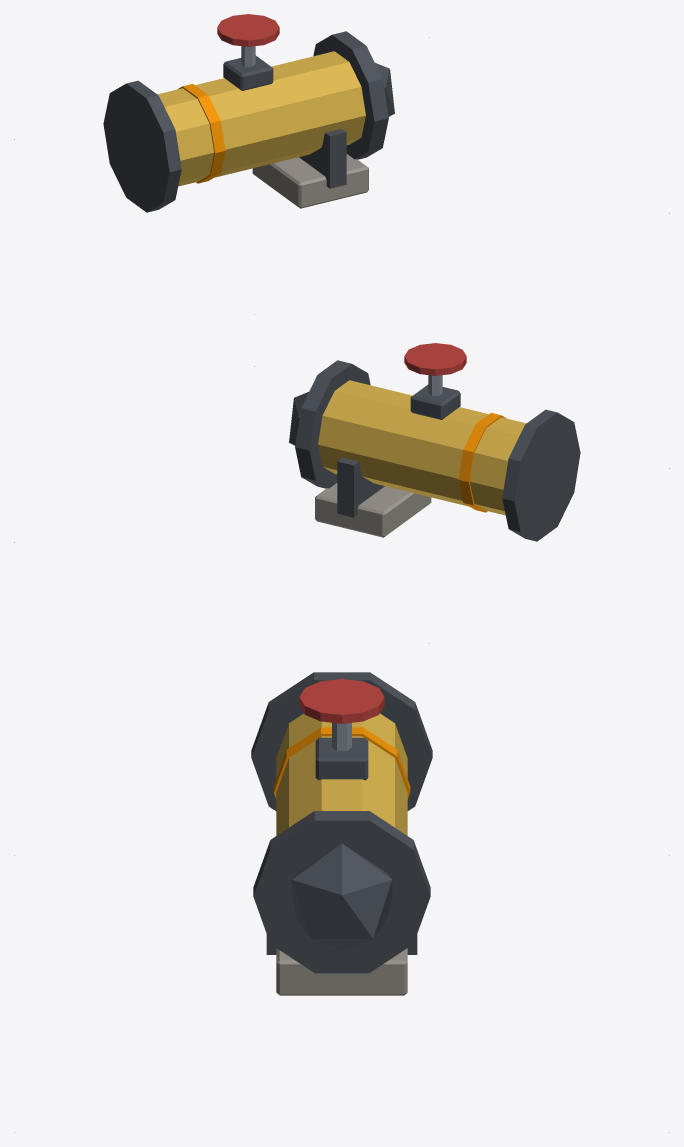
The model's file is tuyau_bout_t2.glb.
3 renders of one model, top to bottom at view 1: azimuth 30°, elevation 25°; view 2: azimuth 150°, elevation 25°; view 3: azimuth 270°, elevation 25°, orthographic. The views are drawn at different scales.
Parts seen in each view (by area): view 1: pieces_laiton.014, pieces_acier_sombre.044, pieces_beton.044, pieces_rouge.008, pieces_rive_t2.014; view 2: pieces_laiton.014, pieces_acier_sombre.044, pieces_beton.044, pieces_rouge.008, pieces_rive_t2.014; view 3: pieces_acier_sombre.044, pieces_laiton.014, pieces_beton.044, pieces_rouge.008, pieces_rive_t2.014.
Boxes of the visible parts, x1,y1,x2,y2 form: pieces_laiton.014: [157, 51, 365, 186]; pieces_acier_sombre.044: [103, 31, 394, 212]; pieces_beton.044: [252, 154, 368, 208]; pieces_rouge.008: [217, 14, 279, 46]; pieces_rive_t2.014: [177, 84, 225, 183]; pieces_laiton.014: [318, 380, 526, 515]; pieces_acier_sombre.044: [289, 360, 580, 541]; pieces_beton.044: [315, 483, 431, 537]; pieces_rouge.008: [404, 343, 466, 375]; pieces_rive_t2.014: [458, 413, 506, 512]; pieces_acier_sombre.044: [251, 672, 432, 973]; pieces_laiton.014: [276, 713, 407, 835]; pieces_beton.044: [276, 948, 407, 995]; pieces_rouge.008: [299, 679, 384, 723]; pieces_rive_t2.014: [273, 727, 410, 799].
Size of the model in its own units: 1 by 0.395 by 1.
